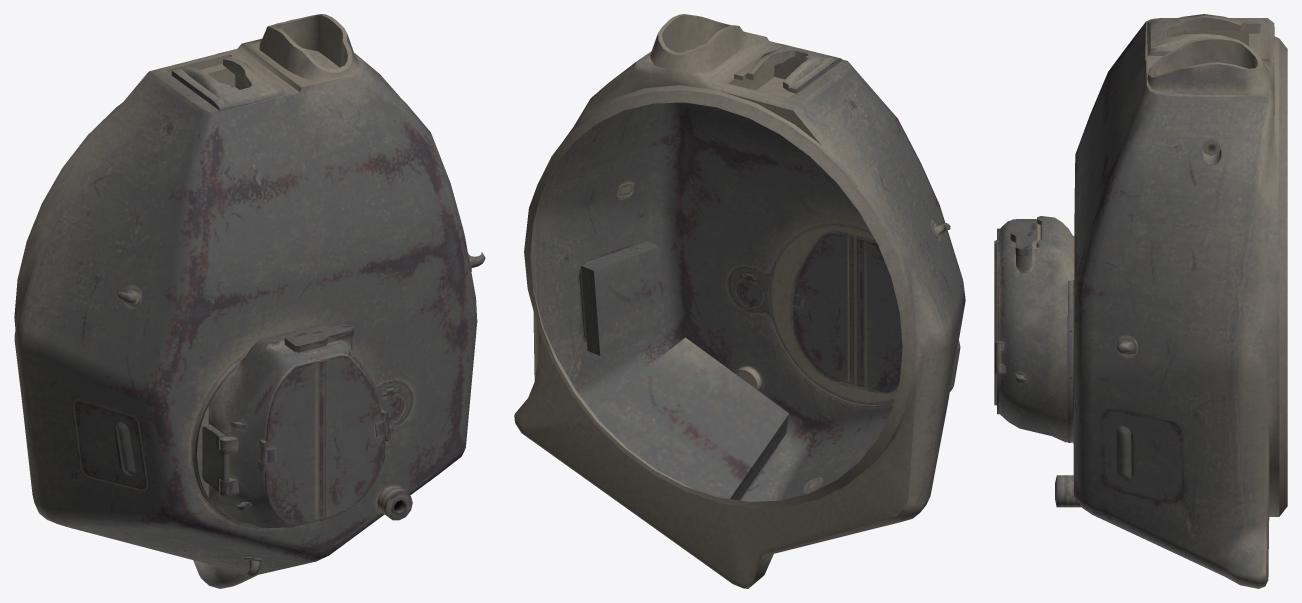
File: Turret_01.glb
The picture shows the model from 3 angles, left to right: view 1: azimuth 30°, elevation 25°; view 2: azimuth 150°, elevation 25°; view 3: azimuth 270°, elevation 25°; orthographic projection. The views are drawn at different scales.
Parts seen in each view (by area): view 1: set_0_group_0; view 2: set_0_group_0; view 3: set_0_group_0.
Boxes of the visible parts, box(x1,y1,x2,y2) form: set_0_group_0: box(14, 14, 485, 588); set_0_group_0: box(514, 14, 965, 588); set_0_group_0: box(994, 14, 1287, 588).
Size of the model in its own units: 1.46 by 1.75 by 0.8225.
Materials: 1 (1 with a texture image).
